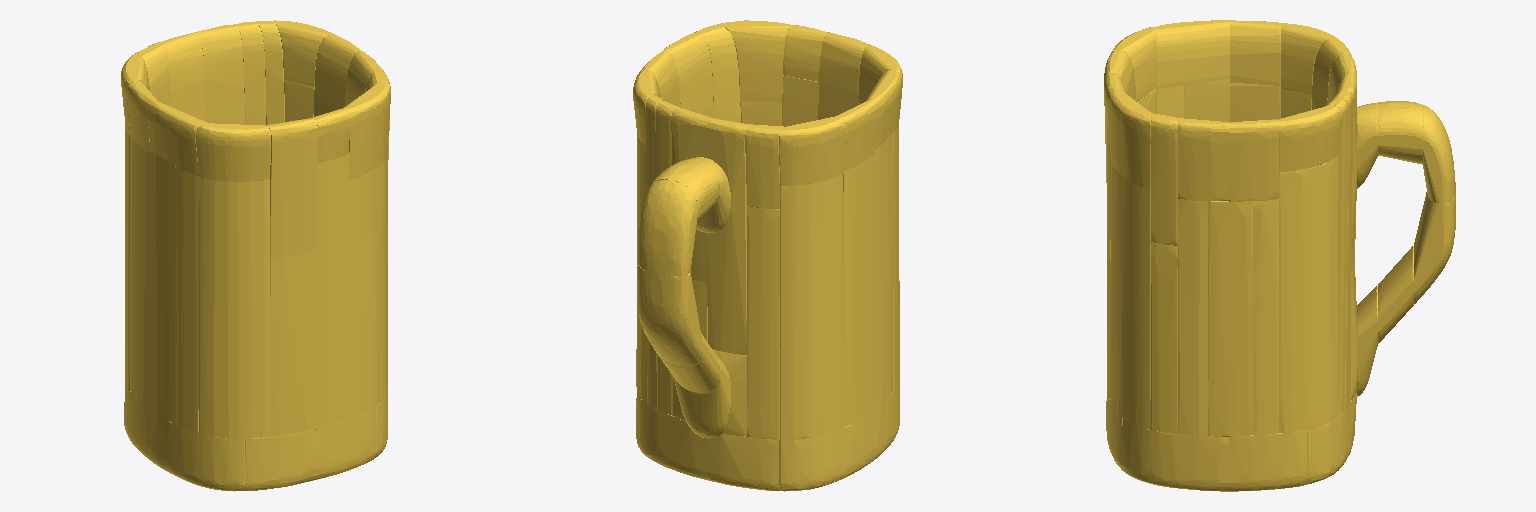
robot.urdf — 811.urdf:
<?xml version="1.0" ?>
<robot name="811.urdf">
	<link name="baseLink">
		<inertial>
			<origin rpy="0 0 0" xyz="0 0 0"/>
				<mass value="0.1"/>
				<inertia ixx="6e-5" ixy="0" ixz="0" iyy="6e-5" iyz="0" izz="6e-5"/>
		</inertial>
		<visual>
			<origin rpy="0 0 0" xyz="0 0 0"/>
			<geometry>
				<mesh filename="36_decom_wt.obj" scale="0.83 0.83 1.18"/>
			</geometry>
			<material name="yellow">
				<color rgba="0.98 0.84 0.35 1"/>
			</material>
		</visual>
		<collision>
			<origin rpy="0 0 0" xyz="0 0 0"/>
			<geometry>
				<mesh filename="36_decom_wt.obj" scale="0.83 0.83 1.18"/>
			</geometry>
		</collision>
	</link>
</robot>

--- Render facts (derived) ---
The picture shows the robot from 3 angles, left to right: view 1: azimuth 30°, elevation 25°; view 2: azimuth 150°, elevation 25°; view 3: azimuth 270°, elevation 25°; orthographic projection.
Model 811.urdf with 1 links and 0 joints (none), rooted at baseLink, posed all joints at 0.
Links seen in each view (by area): view 1: baseLink; view 2: baseLink; view 3: baseLink.
Boxes of the visible links, left/top/right/bottom form: baseLink: left=121, top=20, right=390, bottom=491; baseLink: left=633, top=20, right=902, bottom=491; baseLink: left=1104, top=20, right=1455, bottom=491.
Bounding box of the posed robot: 0.0912 × 0.1261 × 0.1464 m (x, y, z).
Meshes: 1 distinct files referenced, 1 mesh visuals loaded (1 OBJ).